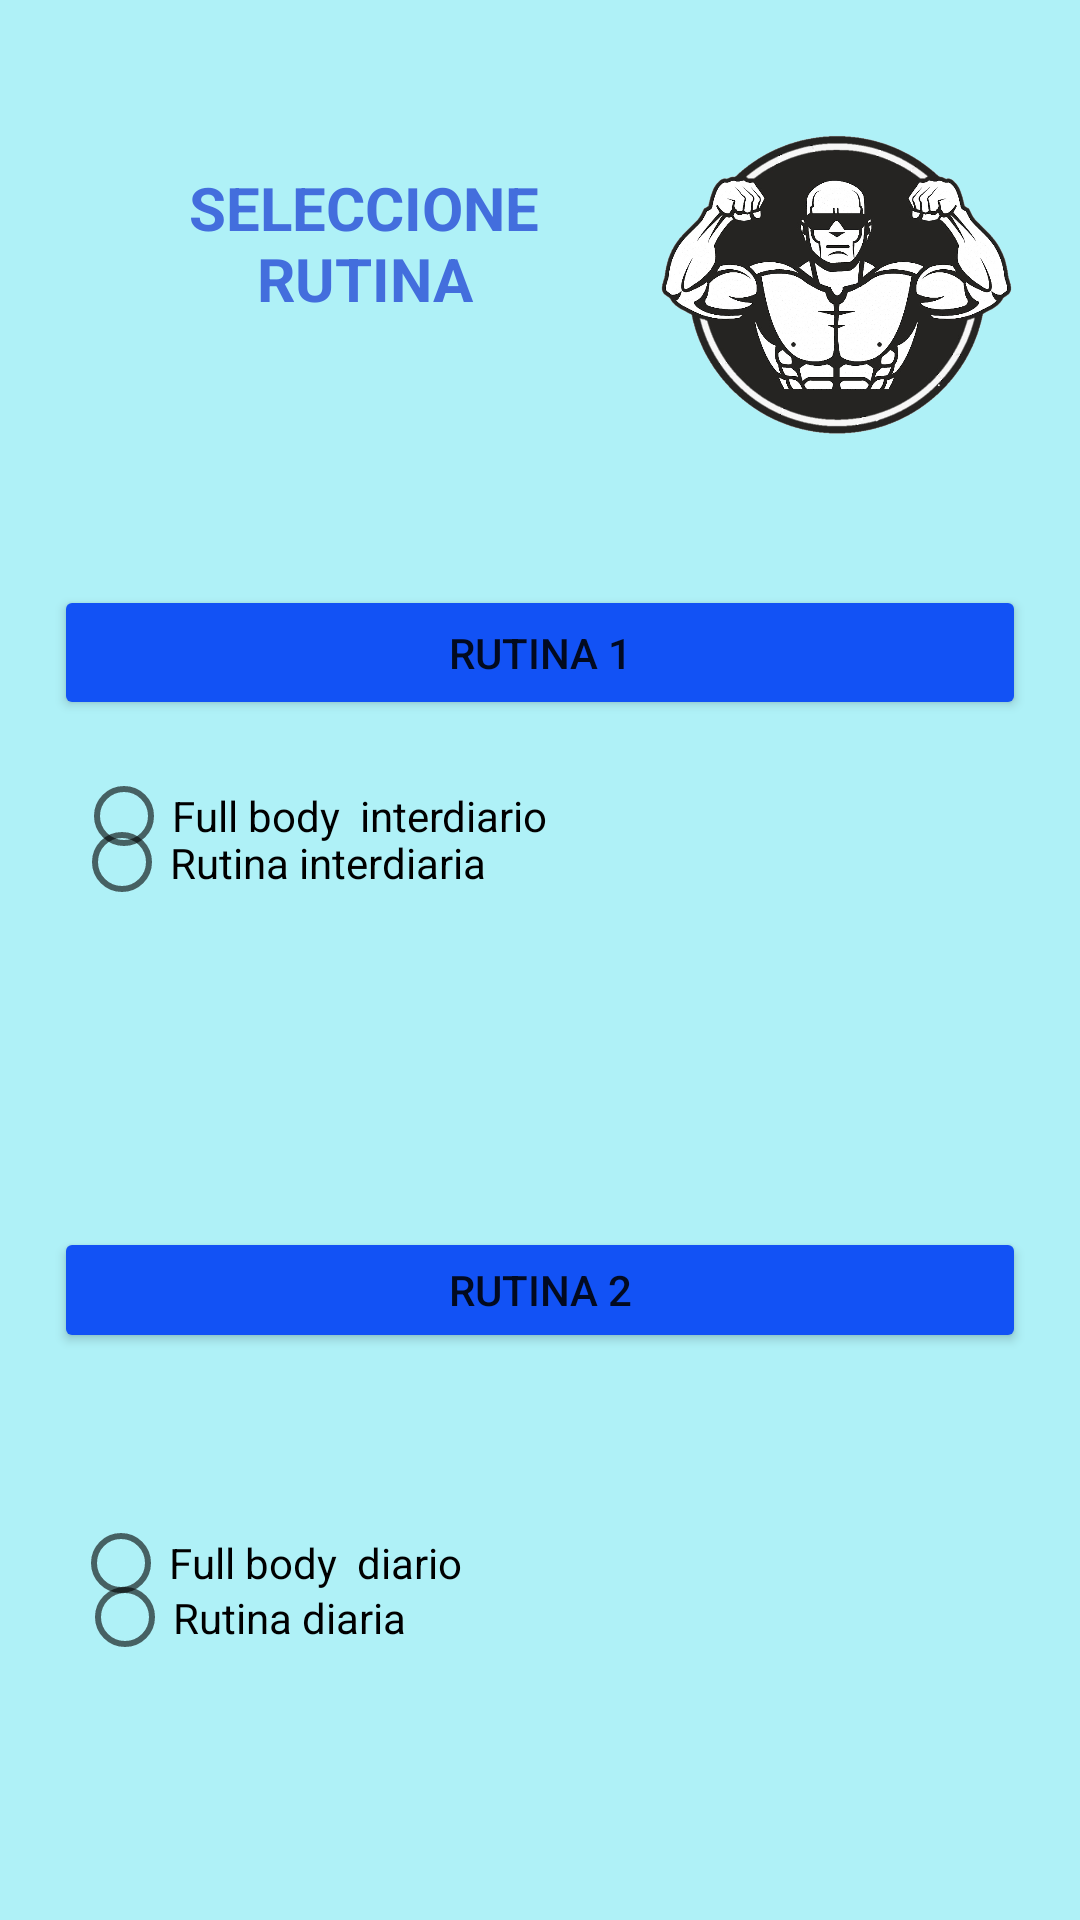

Icon bounding boxes for this 1080w x 1920h phone screenshot, format (x1, y1, x2, y2):
iconogym: (662, 136, 1011, 434)
